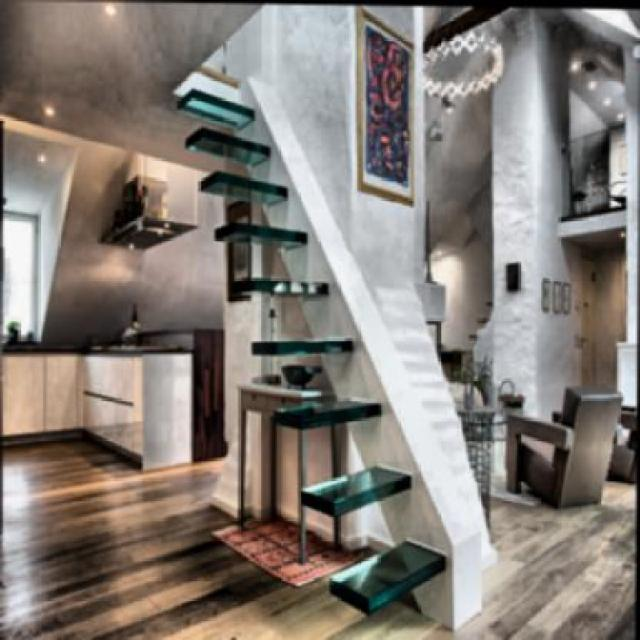stair: (176, 84, 452, 616)
